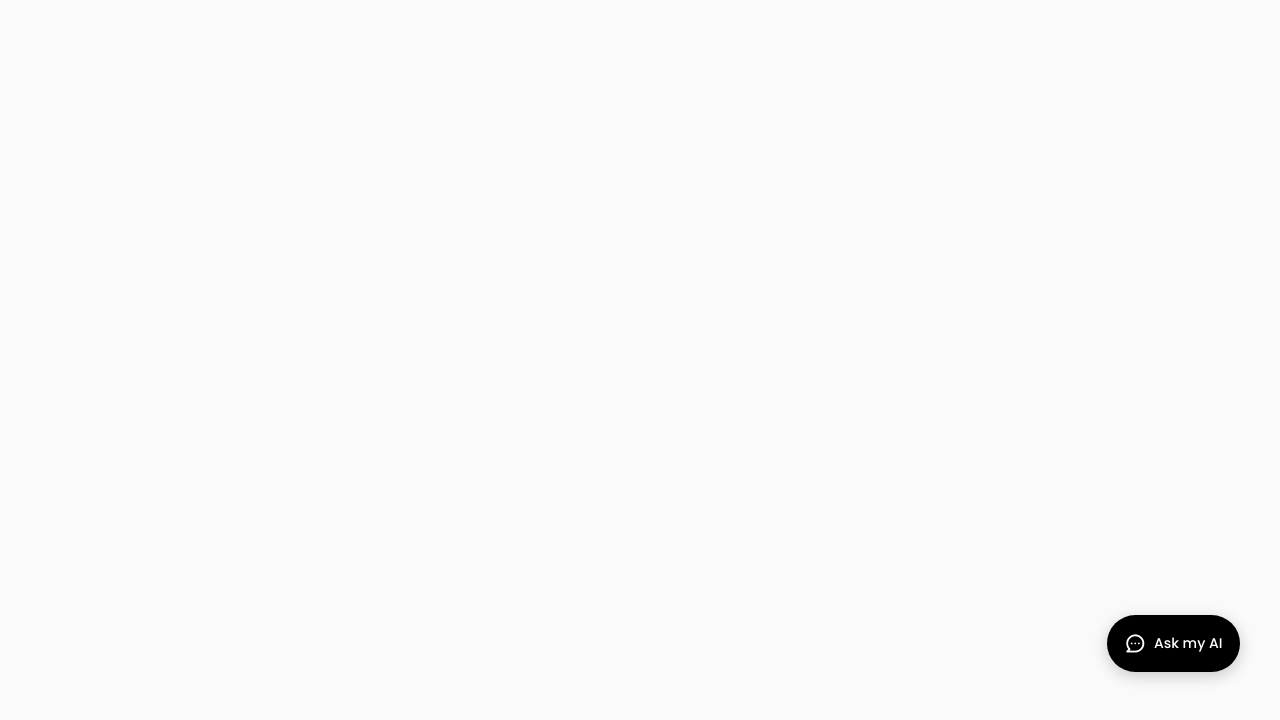
Test case: ChatWidget › closes with the close button and with Escape, keeping the conversation
The width and height of the screenshot is (1280, 720).
Click the button with aria-label "open chat". click: (1173, 644)
box: [1107,615,1240,672]
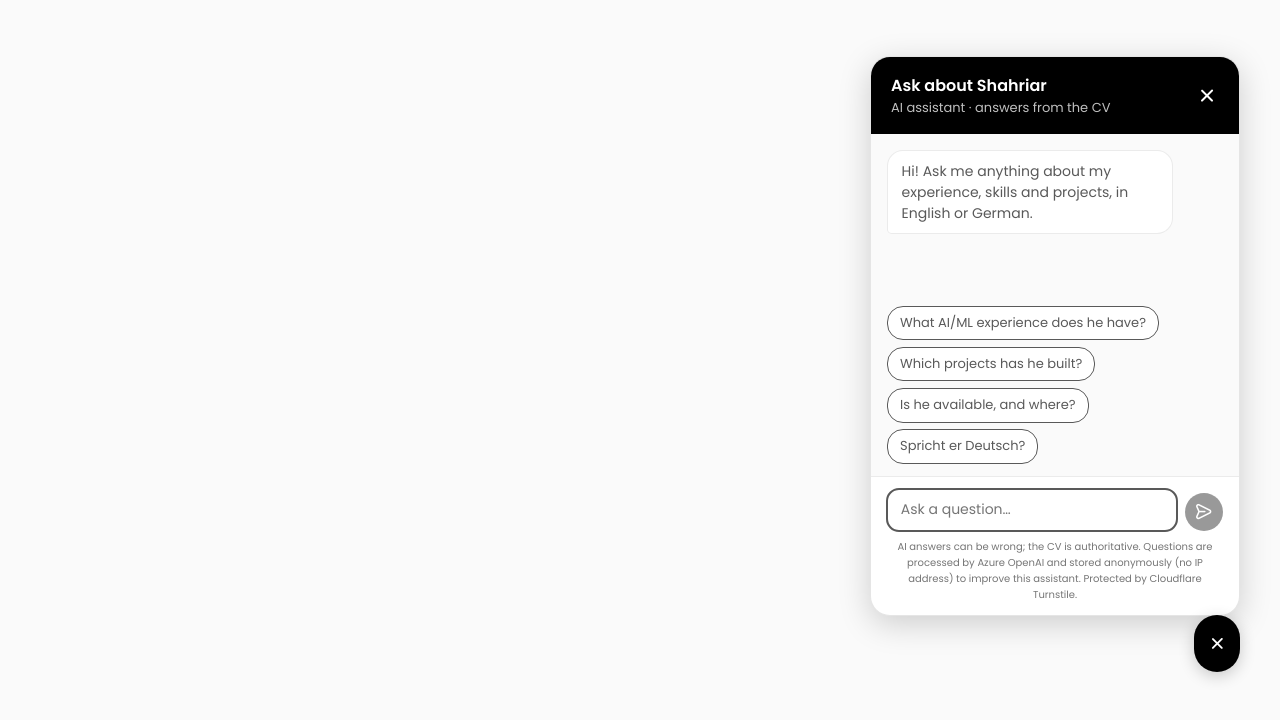
Type "hi" into the text box named "Your question". click: (1032, 510)
box: [887,489,1177,531]
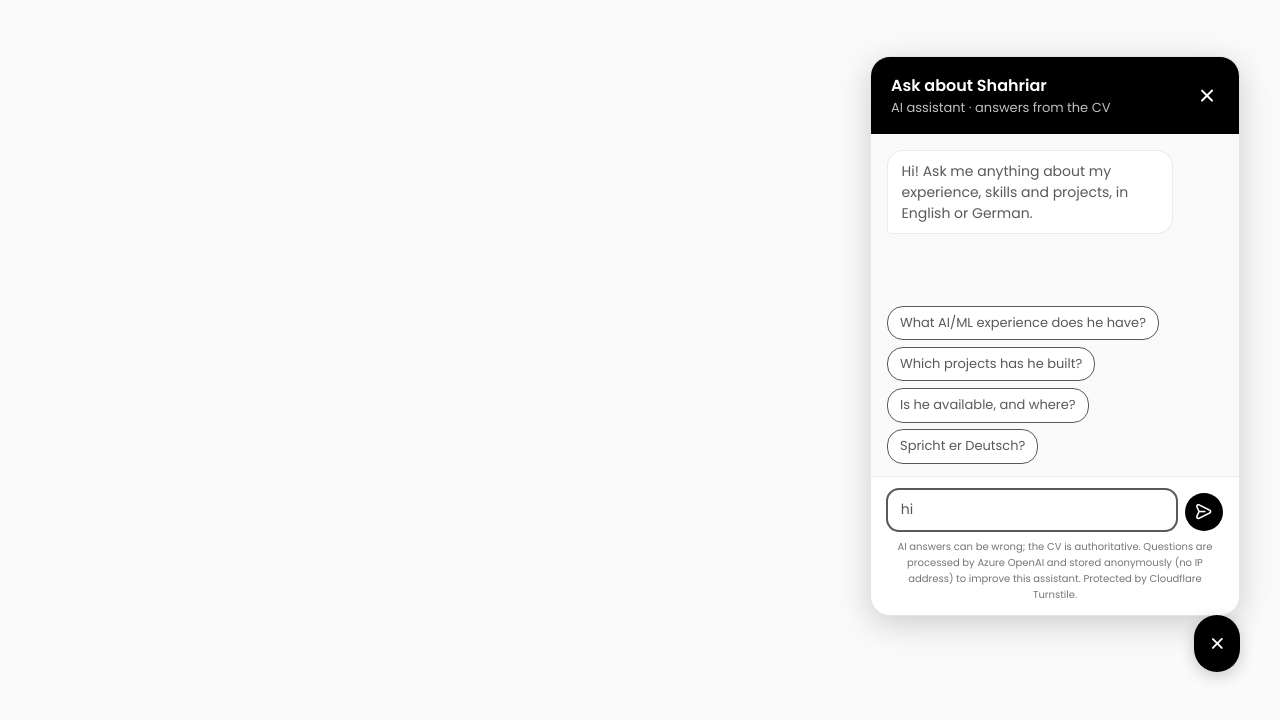
Press Enter in the text box named "Your question", box [887,489,1177,531]
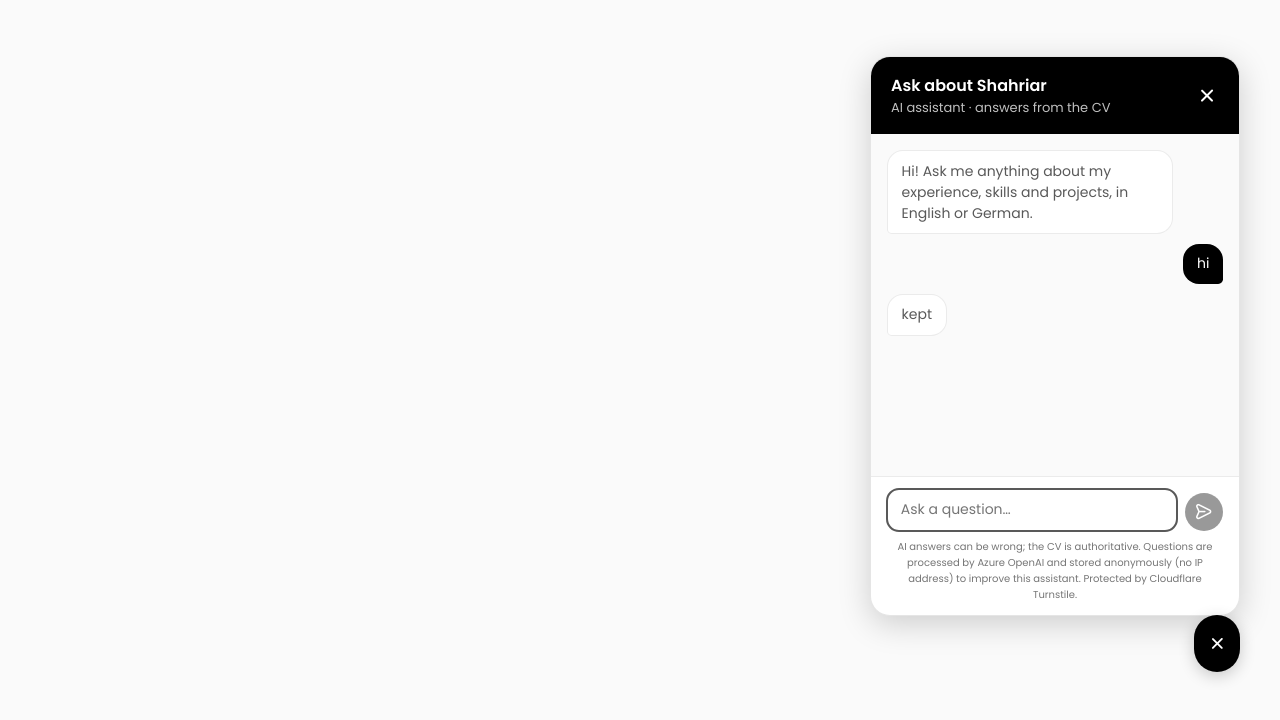
expect the text "kept" is shown: met, box [887,294,947,336]
Press Escape
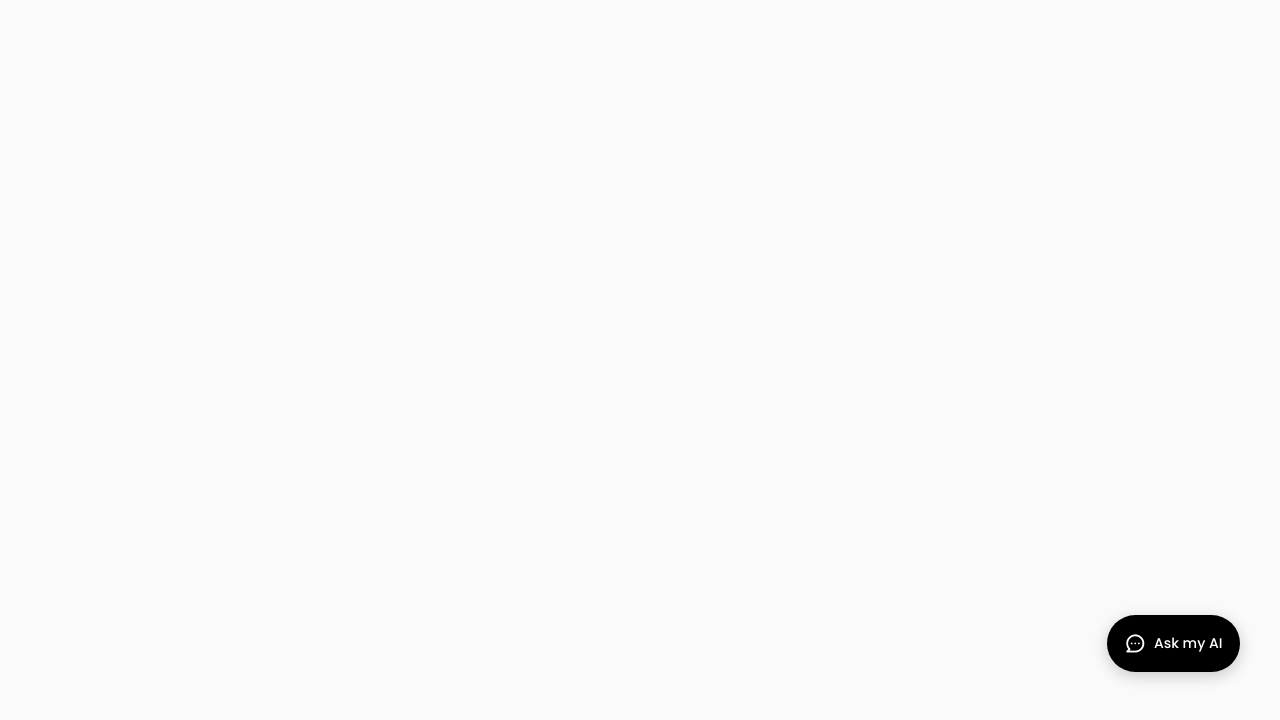
expect the dialog is gone: met
Click the button with aria-label "open chat". click: (1173, 644)
box: [1107,615,1240,672]
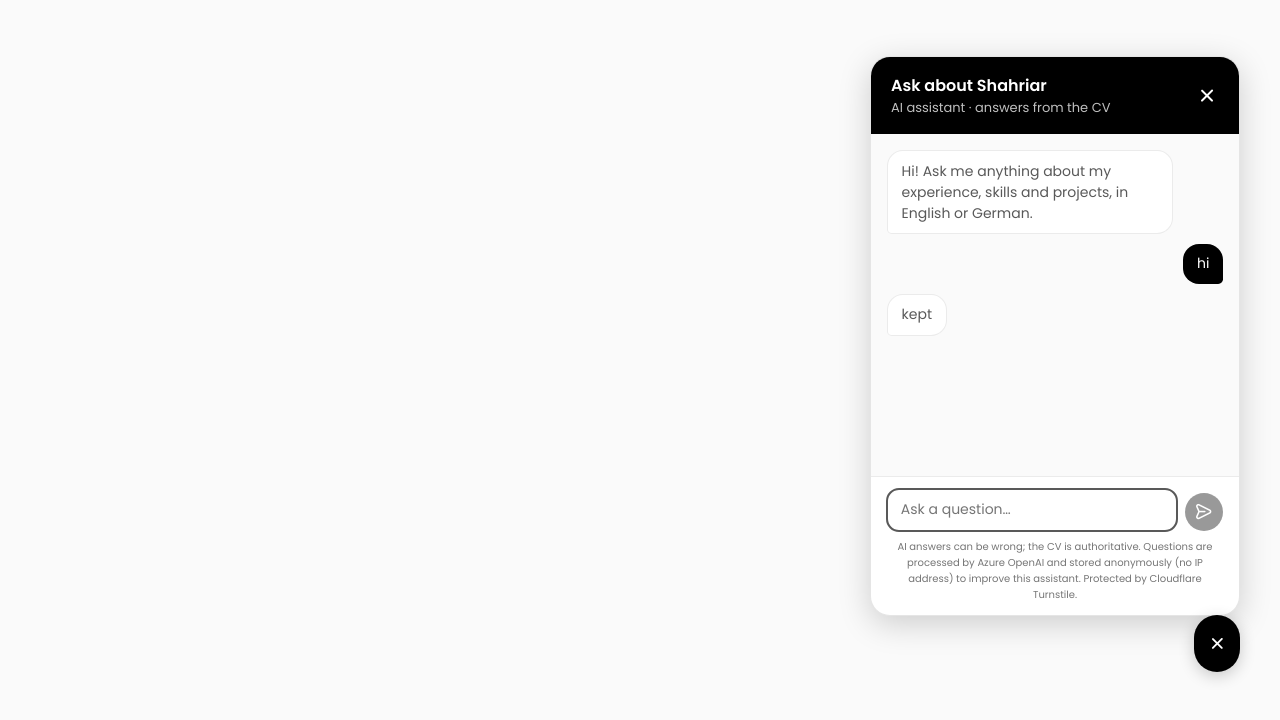
expect the text "kept" is shown: met, box [887,294,947,336]
Click the button named "Close chat" next to "AI assistant · answers from the CV". click: (1207, 96)
box: [1195,78,1219,113]
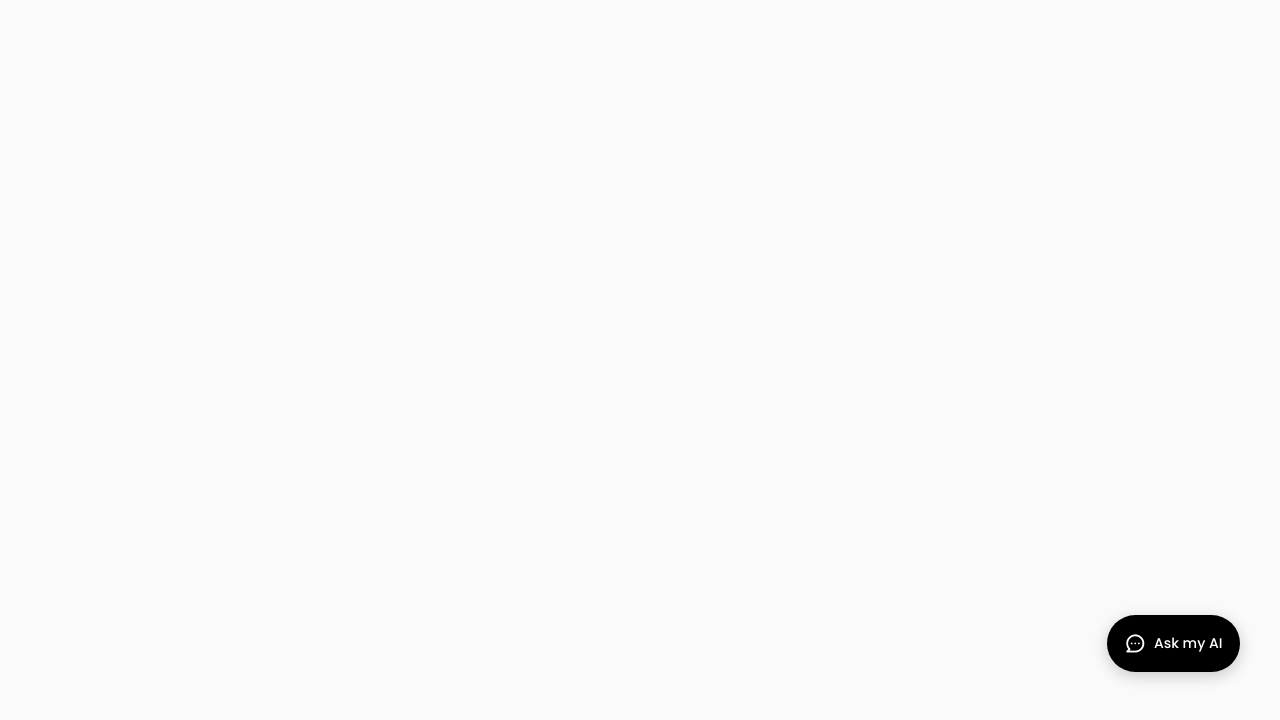
expect the dialog is gone: met
